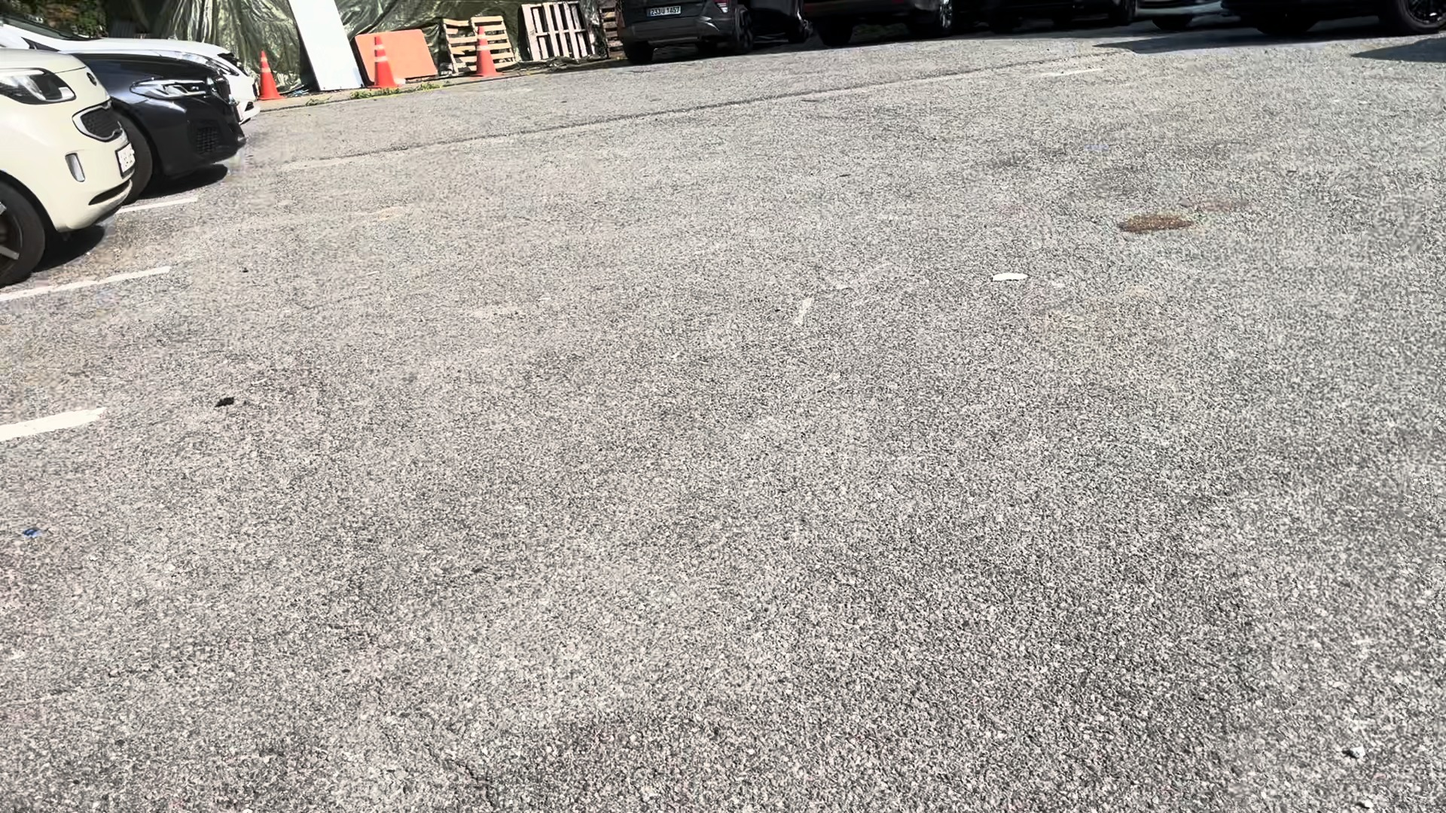license_plate: (646, 4, 683, 16)
